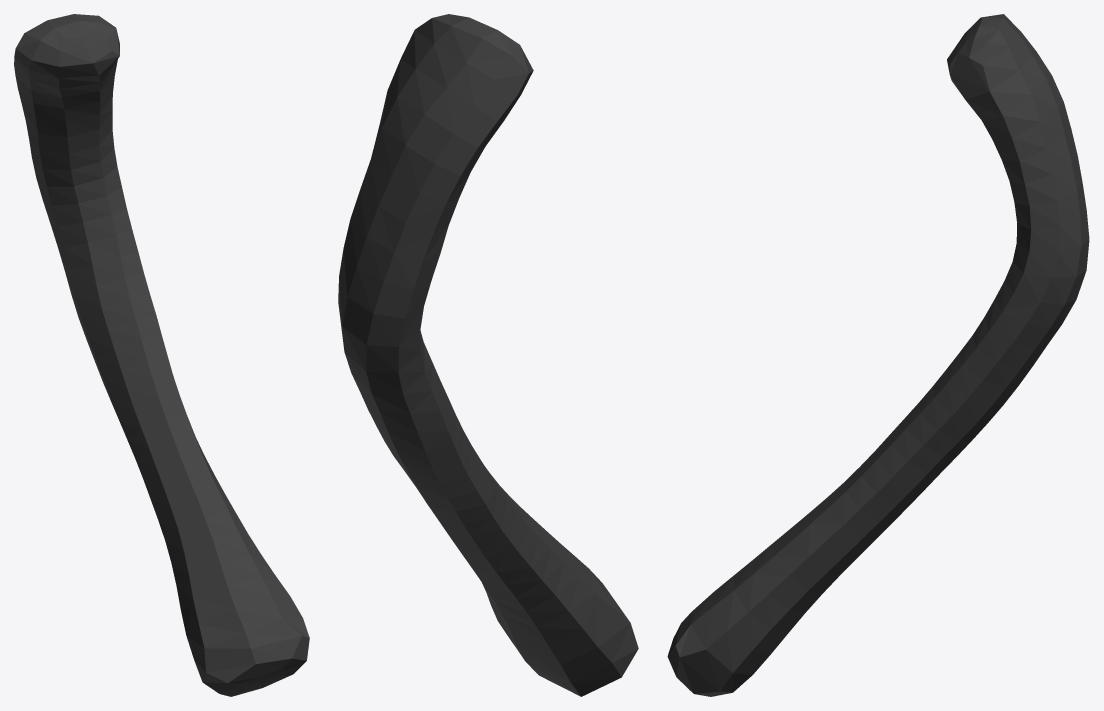
Rendered from Cran_cruc_lig.glb.
3 renders of one model, left to right at view 1: azimuth 30°, elevation 25°; view 2: azimuth 150°, elevation 25°; view 3: azimuth 270°, elevation 25°, orthographic. The views are drawn at different scales.
Visible parts, largest first — view 1: Cran_cruc_lig; view 2: Cran_cruc_lig; view 3: Cran_cruc_lig.
Boxes of the visible parts, x1=… form: Cran_cruc_lig: x1=14, y1=14, x2=309, y2=696; Cran_cruc_lig: x1=338, y1=14, x2=638, y2=696; Cran_cruc_lig: x1=667, y1=14, x2=1089, y2=696.
Size of the model in its own units: 0.1607 by 0.6026 by 0.3582.
Materials: 1 (1 with a texture image).
